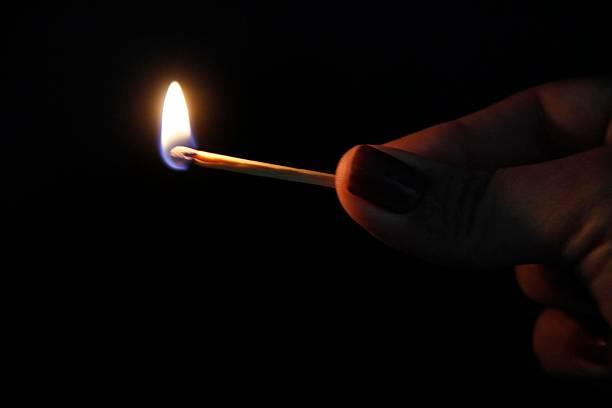Fire: (151, 78, 198, 175)
